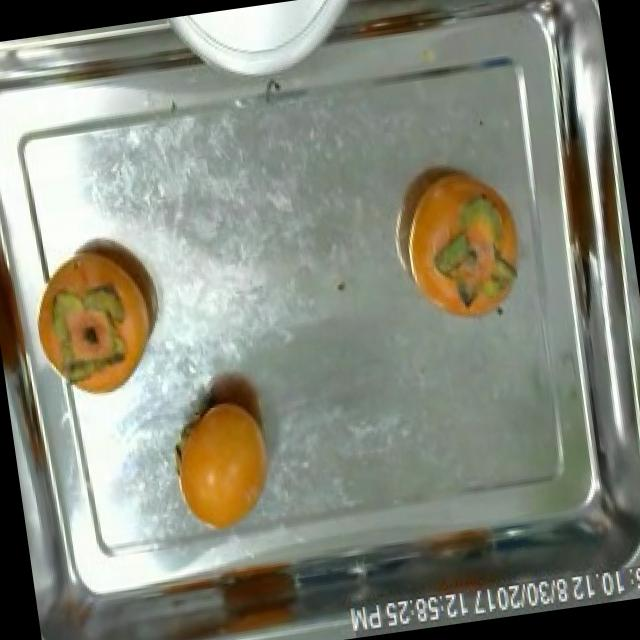Fruit: (27, 218, 182, 412), (389, 148, 536, 338), (160, 382, 296, 550)
